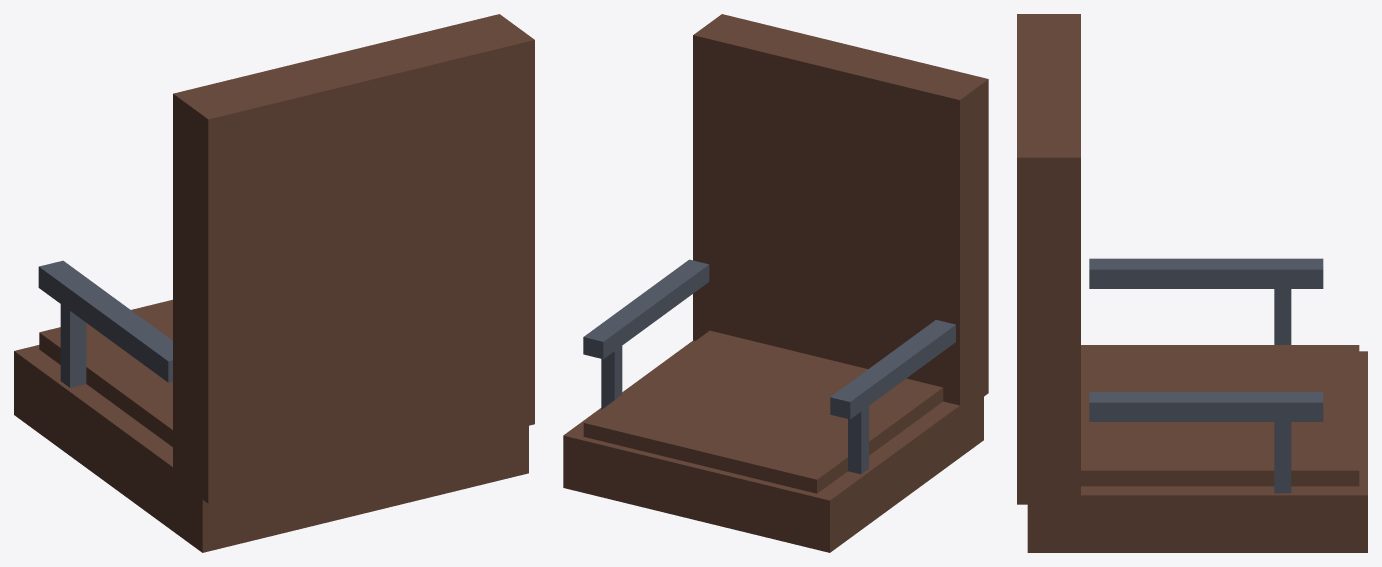
The model's file is seat.glb.
3 views of the same model, side by side, from view 1: azimuth 30°, elevation 25°; view 2: azimuth 150°, elevation 25°; view 3: azimuth 270°, elevation 25° (orthographic). The views are drawn at different scales.
Visible parts, largest first — view 1: seat; view 2: seat; view 3: seat.
Boxes of the visible parts, <box> form: seat: <box>14,14,534,552</box>; seat: <box>563,14,988,552</box>; seat: <box>1017,14,1367,552</box>.
Size of the model in its own units: 0.8 by 1.02 by 0.825.
